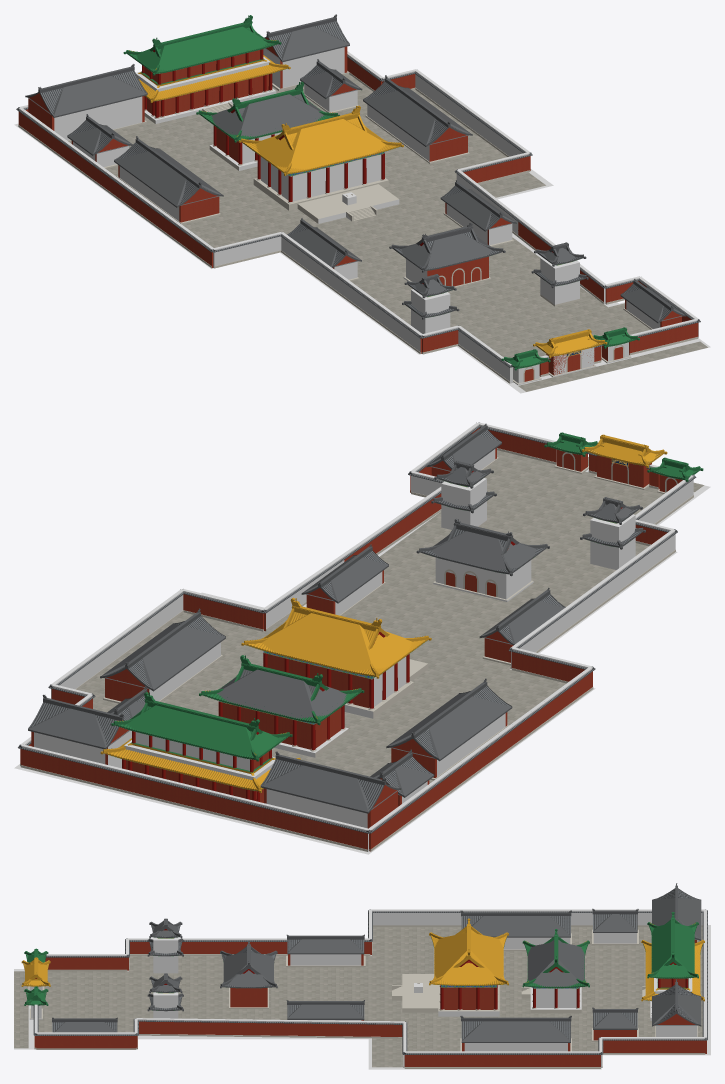
File: guangjisi.glb
The picture shows the model from 3 angles, top to bottom: view 1: azimuth 30°, elevation 25°; view 2: azimuth 150°, elevation 25°; view 3: azimuth 270°, elevation 25°; orthographic projection. The views are drawn at different scales.
Parts seen in each view (by area): view 1: Massing, Temple, COL_h2, COL_b26, COL_h8, COL_b38, COL_b39, COL_b14, COL_b13, COL_h3, COL_h0, COL_h10 (+6 smaller); view 2: Massing, Temple, COL_h2, COL_h8, COL_b13, COL_b14, COL_h10, COL_b38, COL_b39, COL_h5, FOOTPRINT_north, COL_h4 (+7 smaller); view 3: Massing, Temple, COL_h4, COL_b32, COL_b13, COL_b27, COL_b30, COL_h10, FOOTPRINT_middle, COL_b14, COL_h8, FOOTPRINT_north (+7 smaller).
Boxes of the visible parts, x1=… form: Massing: x1=27, y1=26, x2=707, y2=391; Temple: x1=16, y1=14, x2=700, y2=384; COL_h2: x1=280, y1=232, x2=423, y2=351; COL_b26: x1=260, y1=154, x2=382, y2=201; COL_h8: x1=415, y1=69, x2=530, y2=156; COL_b38: x1=54, y1=96, x2=142, y2=140; COL_b39: x1=263, y1=47, x2=344, y2=88; COL_b14: x1=540, y1=257, x2=579, y2=304; COL_b13: x1=411, y1=289, x2=450, y2=333; COL_h3: x1=213, y1=232, x2=281, y2=267; COL_h0: x1=457, y1=326, x2=512, y2=383; COL_h10: x1=456, y1=169, x2=606, y2=304; Massing: x1=21, y1=427, x2=703, y2=849; Temple: x1=18, y1=422, x2=703, y2=851; COL_h2: x1=511, y1=529, x2=675, y2=668; COL_h8: x1=51, y1=589, x2=183, y2=698; COL_b13: x1=590, y1=514, x2=635, y2=569; COL_b14: x1=441, y1=478, x2=486, y2=529; COL_h10: x1=263, y1=487, x2=441, y2=628; COL_b38: x1=266, y1=789, x2=367, y2=828; COL_b39: x1=34, y1=730, x2=131, y2=768; COL_h5: x1=21, y1=744, x2=369, y2=851; FOOTPRINT_north: x1=14, y1=764, x2=440, y2=854; COL_h4: x1=369, y1=667, x2=592, y2=830; Massing: x1=14, y1=898, x2=706, y2=1067; Temple: x1=21, y1=883, x2=707, y2=1068; COL_h4: x1=370, y1=909, x2=705, y2=925; COL_b32: x1=464, y1=1043, x2=567, y2=1051; COL_b13: x1=153, y1=937, x2=178, y2=973; COL_b27: x1=290, y1=954, x2=361, y2=965; COL_b30: x1=534, y1=988, x2=577, y2=1007; COL_h10: x1=136, y1=1018, x2=404, y2=1023; FOOTPRINT_middle: x1=138, y1=1035, x2=368, y2=1039; COL_b14: x1=153, y1=992, x2=178, y2=1018; COL_h8: x1=404, y1=1051, x2=600, y2=1053; FOOTPRINT_north: x1=603, y1=925, x2=710, y2=1055.
Bounding box in the file's own units: 84.6 × 17.29 × 172.
Materials: 17 (7 with a texture image).
